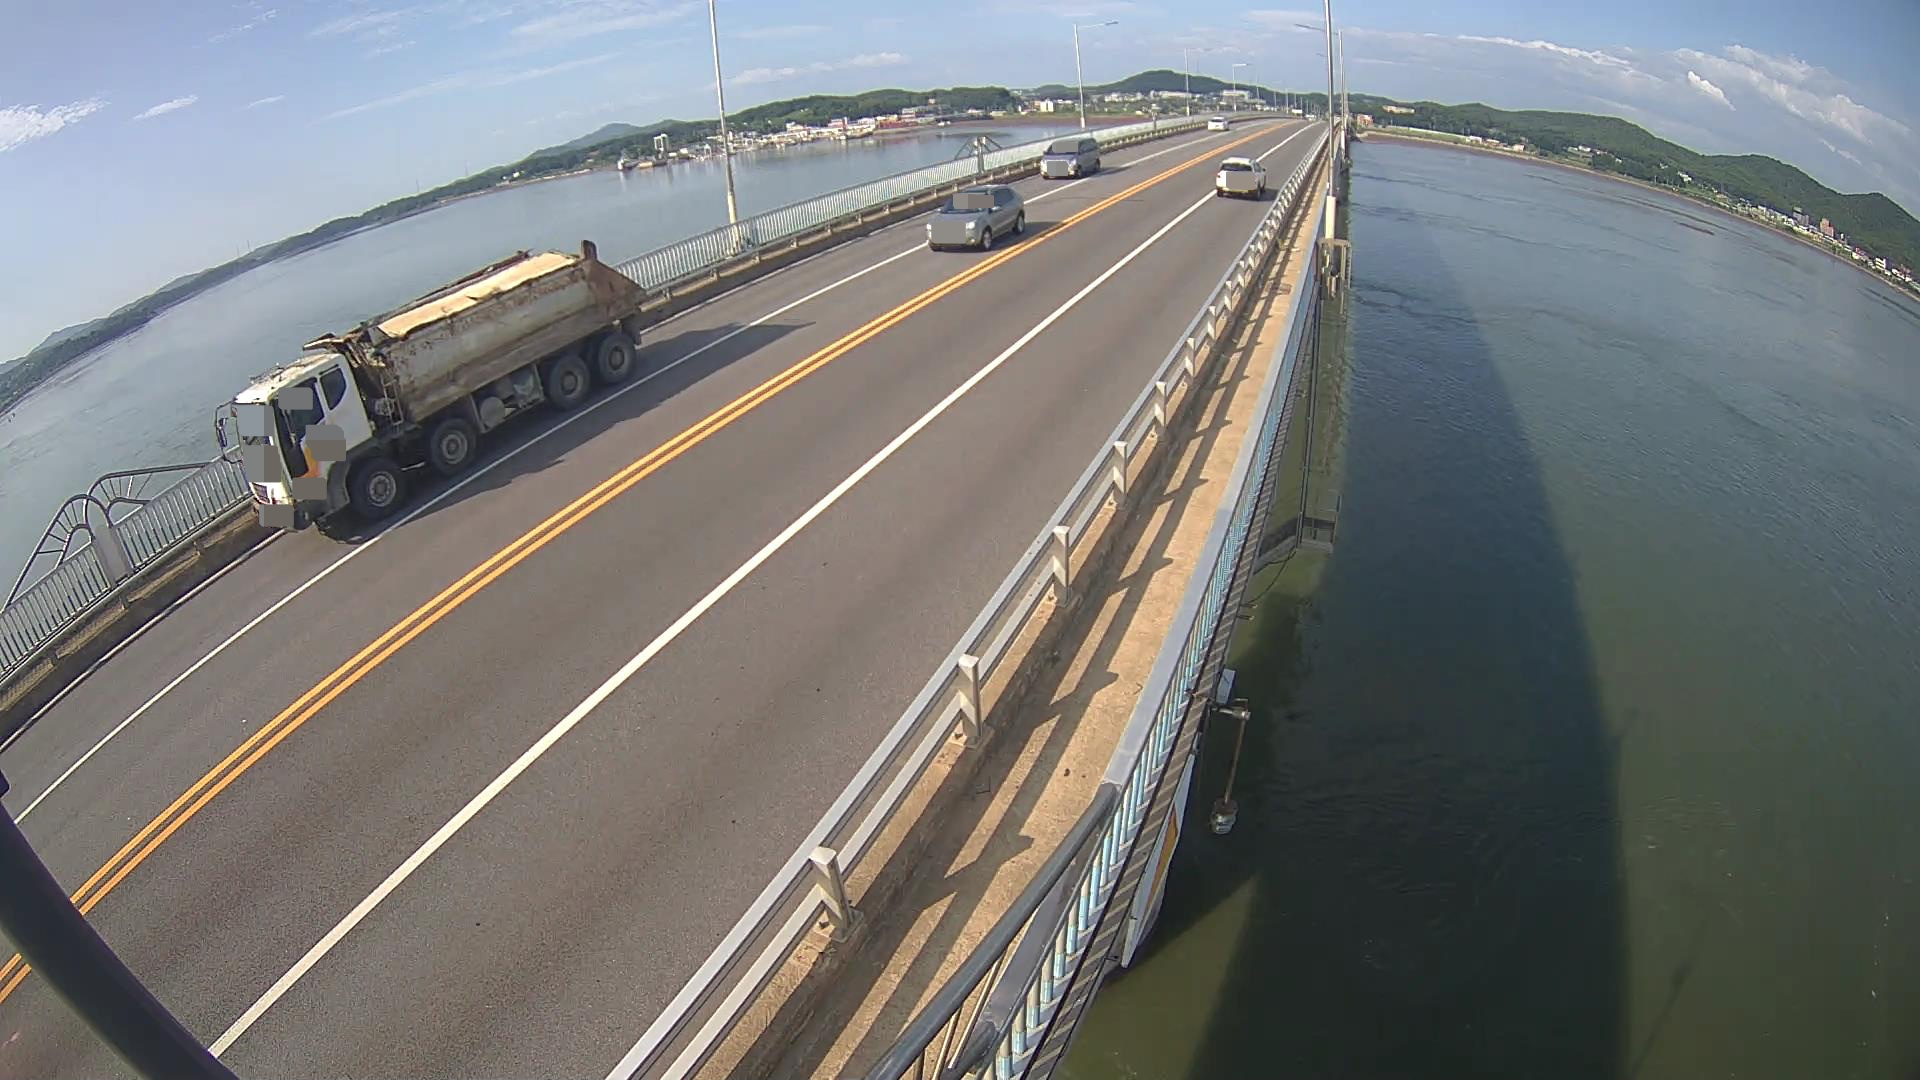정상차량: (214, 240, 647, 530)
